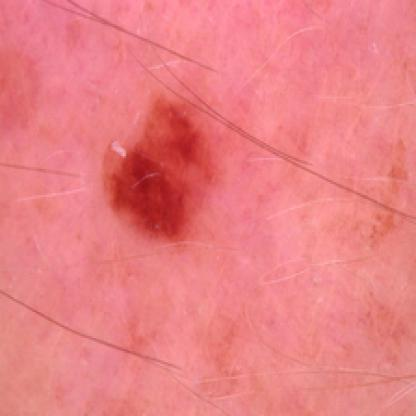benign: (98, 98, 223, 234)
